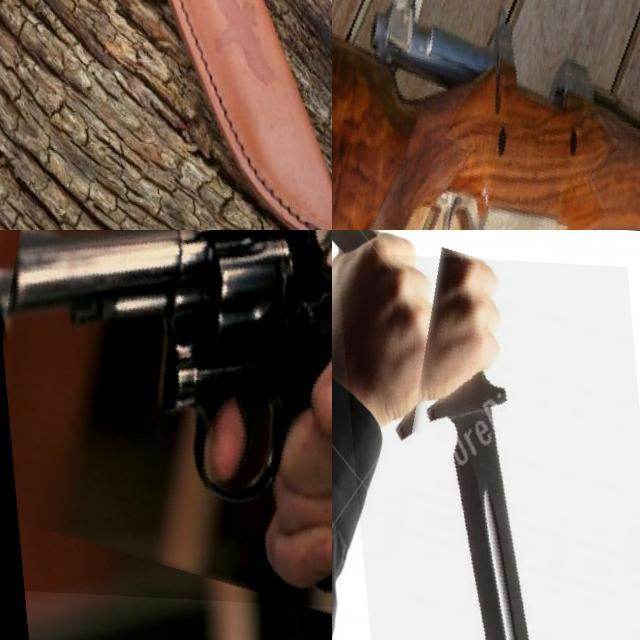-: (335, 248, 640, 640), (0, 0, 309, 127)
gun-knife-thesis - v11 Yolov5 augmented: (0, 230, 332, 609), (332, 0, 640, 230)
